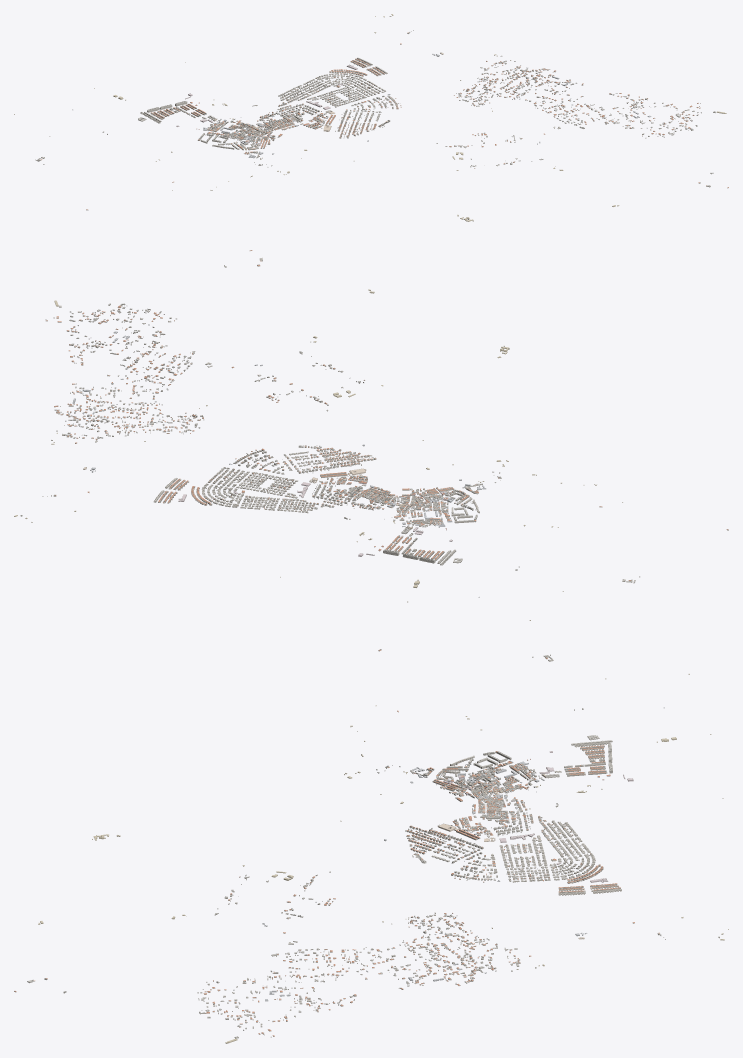
Rendered from almensilla_buildings.glb.
3 views of the same model, one above another, from view 1: azimuth 30°, elevation 25°; view 2: azimuth 150°, elevation 25°; view 3: azimuth 270°, elevation 25° (orthographic). The views are drawn at different scales.
Size of the model in its own units: 4819 by 60.26 by 3753.
